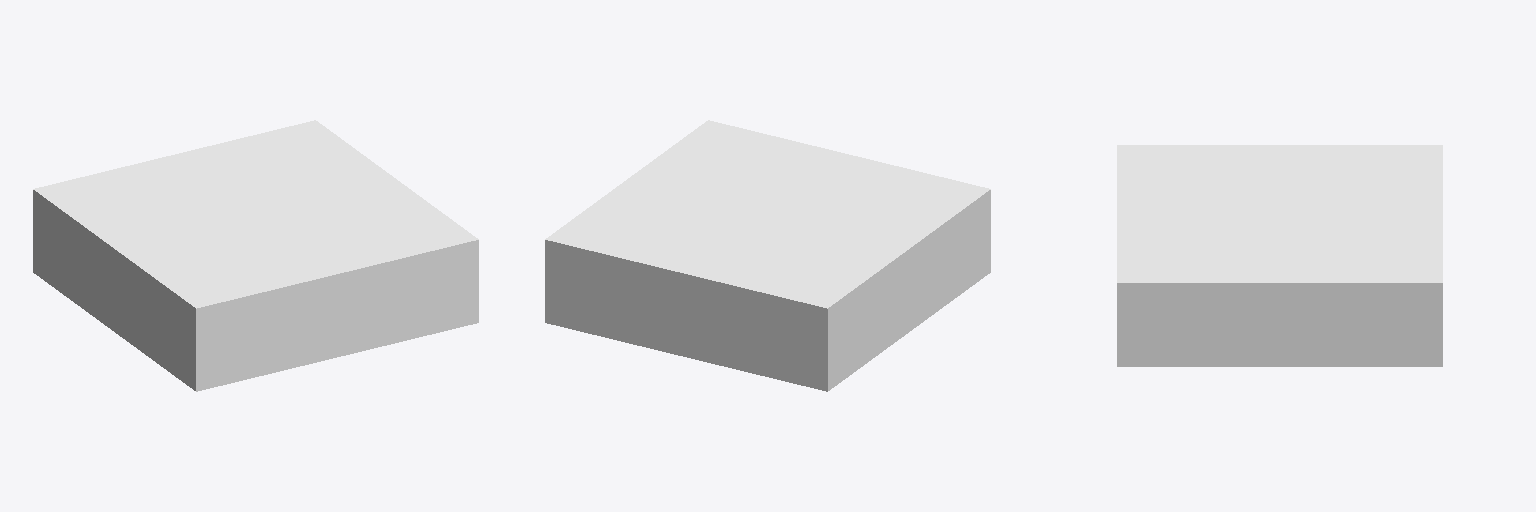
Rendered from Overworld_Ocean_15.obj.
3 renders of one model, left to right at view 1: azimuth 30°, elevation 25°; view 2: azimuth 150°, elevation 25°; view 3: azimuth 270°, elevation 25°, orthographic.
Visible parts, largest first — view 1: object 1; view 2: object 1; view 3: object 1.
Boxes of the visible parts, x1,y1,x2,y2 form: object 1: [33, 120, 478, 391]; object 1: [545, 120, 990, 391]; object 1: [1117, 145, 1442, 366].
Bounding box in the file's own units: 3.2 × 0.9 × 3.2.